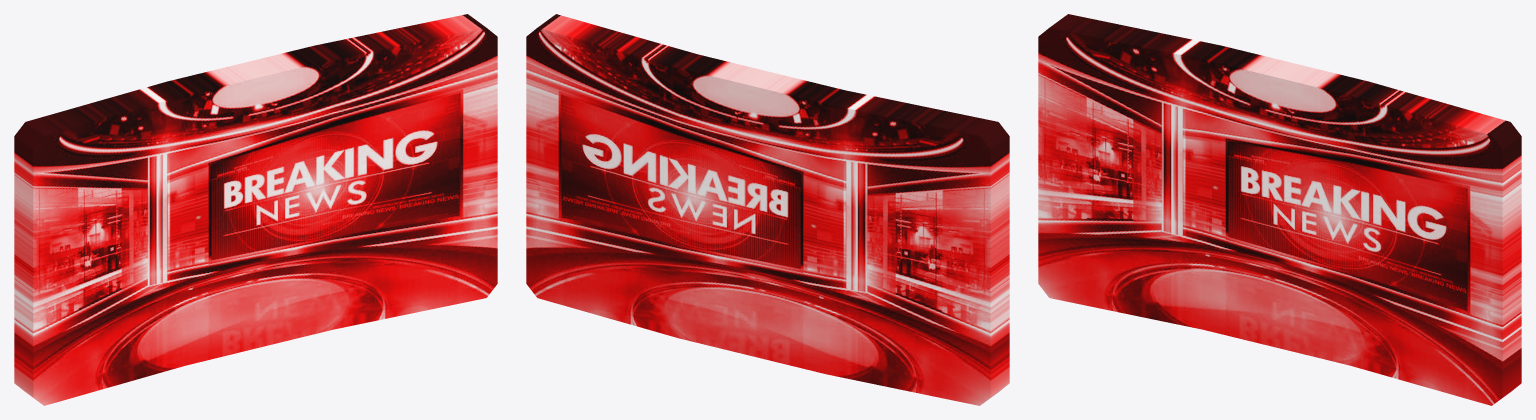
File: News.glb
The picture shows the model from 3 angles, left to right: view 1: azimuth 30°, elevation 25°; view 2: azimuth 150°, elevation 25°; view 3: azimuth 330°, elevation 25°; orthographic projection.
Parts seen in each view (by area): view 1: Cube.005; view 2: Cube.005; view 3: Cube.005.
Boxes of the visible parts, x1,y1,x2,y2 form: Cube.005: [14, 14, 497, 405]; Cube.005: [526, 14, 1009, 405]; Cube.005: [1038, 14, 1521, 405].
Size of the model in its own units: 4.95 by 2.75 by 0.4579.
Materials: 1 (1 with a texture image).
